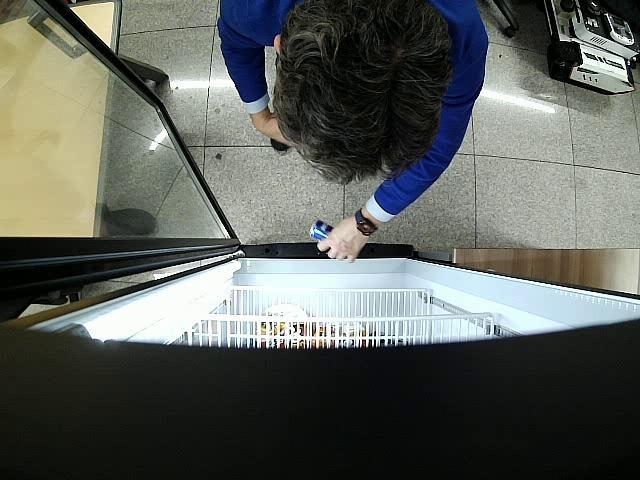16_hot6: (310, 220, 333, 241)
